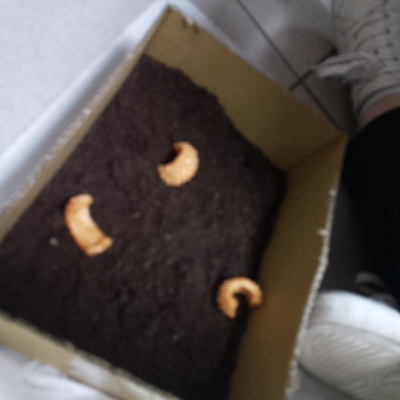eggs: (59, 187, 117, 262), (150, 132, 205, 191), (210, 270, 268, 321)
